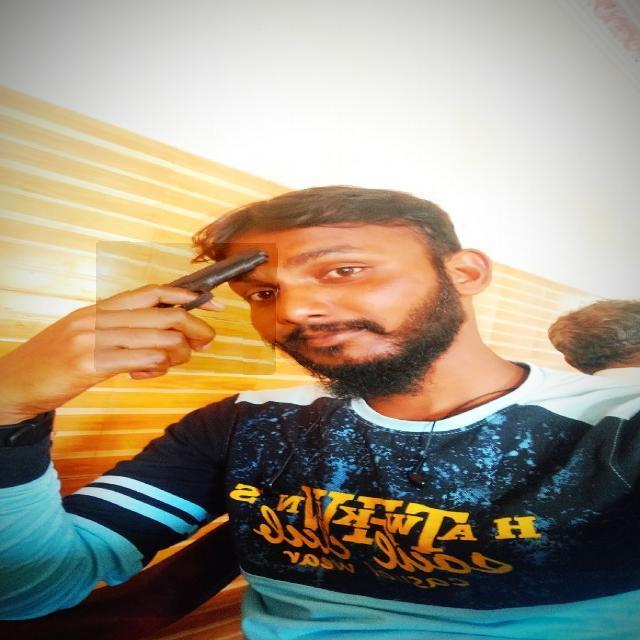handgun: (95, 242, 278, 374)
